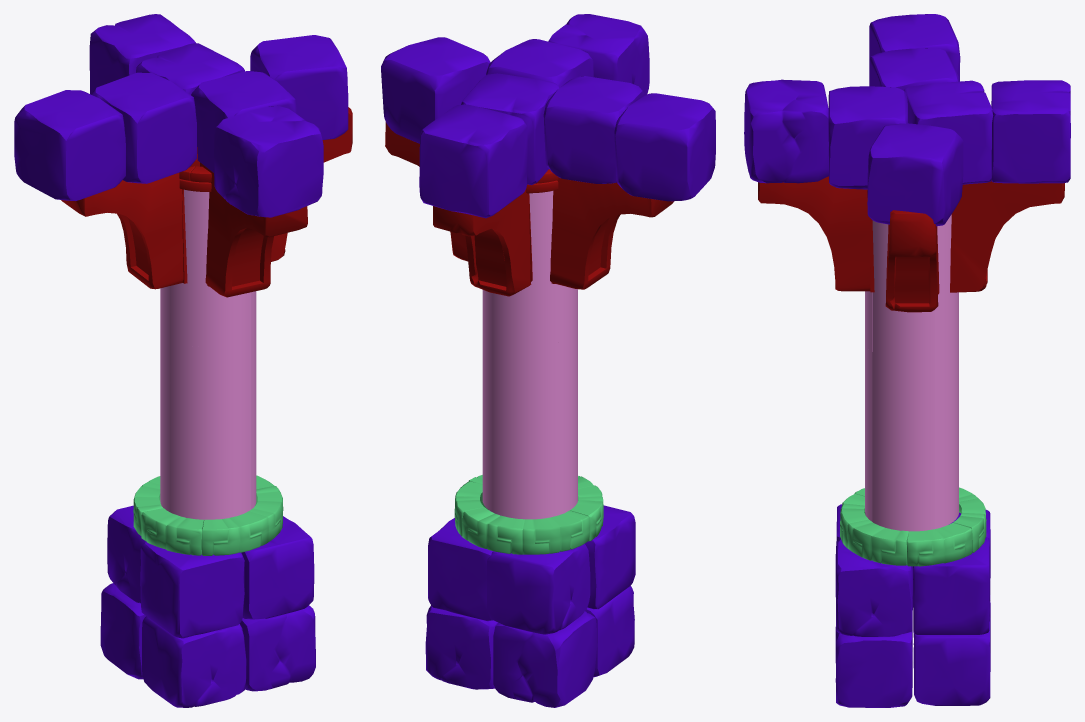
File: column03.fbx
The picture shows the model from 3 angles, left to right: view 1: azimuth 30°, elevation 25°; view 2: azimuth 150°, elevation 25°; view 3: azimuth 270°, elevation 25°; orthographic projection. The views are drawn at different scales.
Parts seen in each view (by area): view 1: column03; view 2: column03; view 3: column03.
Boxes of the visible parts, x1=… form: column03: x1=14, y1=14, x2=352, y2=707; column03: x1=381, y1=14, x2=715, y2=707; column03: x1=744, y1=14, x2=1070, y2=707.
Bounding box in the file's own units: 6.09 × 11.03 × 5.63.
